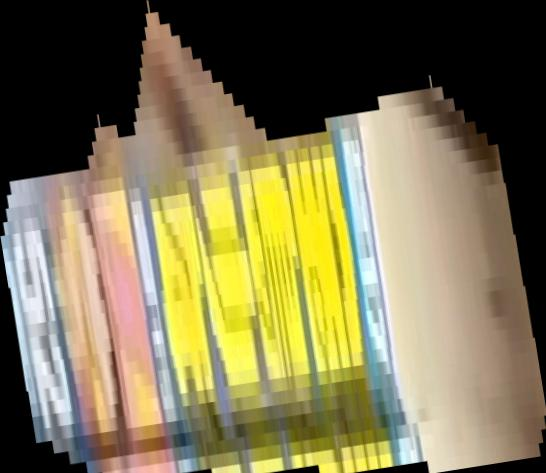flat: (1, 1, 546, 473)
